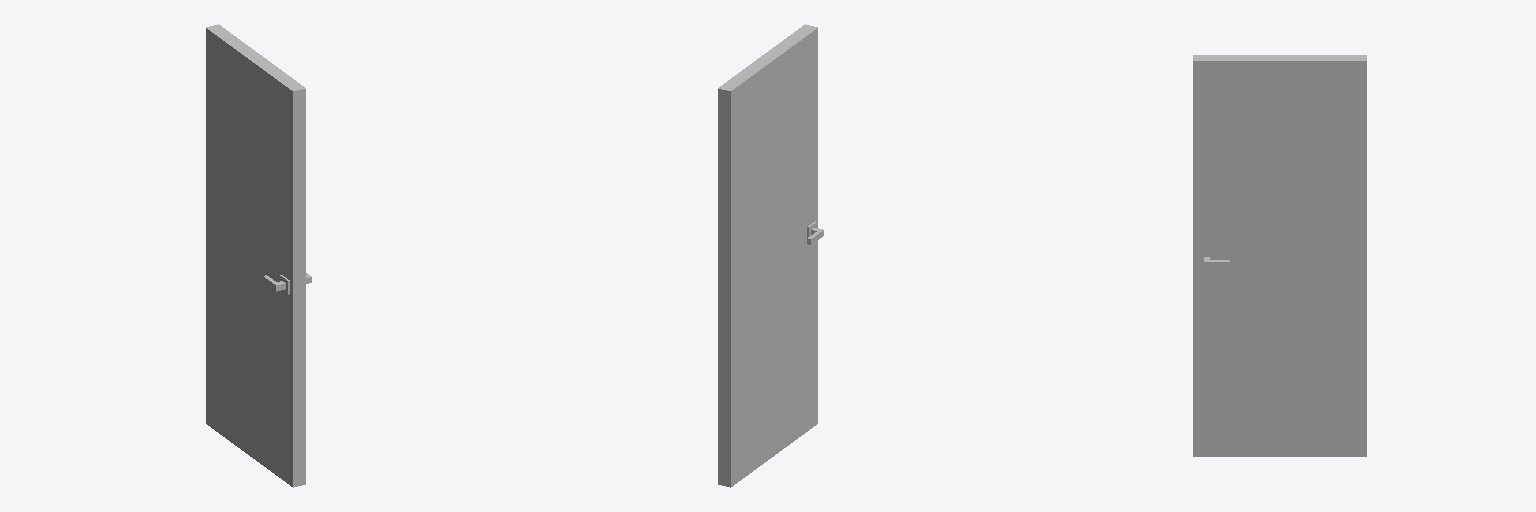
The model's file is door801_black.obj.
The picture shows the model from 3 angles: view 1: azimuth 30°, elevation 25°; view 2: azimuth 150°, elevation 25°; view 3: azimuth 270°, elevation 25°; orthographic projection.
Visible parts, largest first — view 1: Cube; view 2: Cube; view 3: Cube.
Boxes of the visible parts, x1=… form: Cube: x1=206, y1=24, x2=311, y2=487; Cube: x1=718, y1=24, x2=823, y2=487; Cube: x1=1193, y1=55, x2=1366, y2=456.
Bounding box in the file's own units: 0.1899 × 2 × 0.8003.